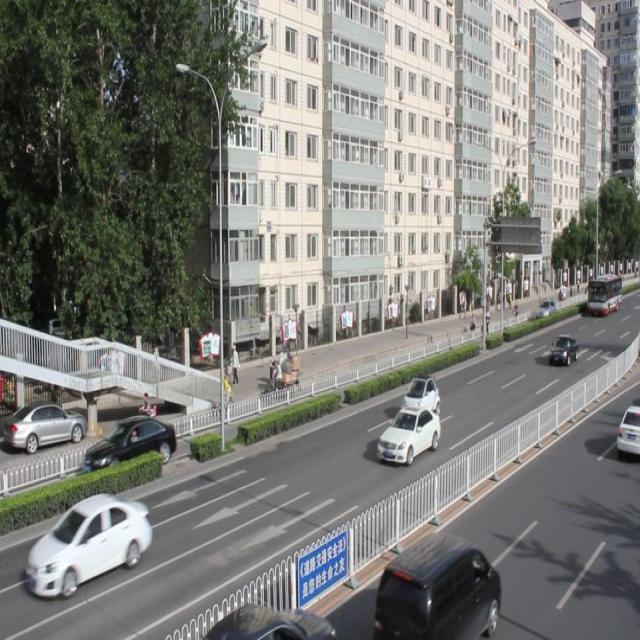car: (374, 532, 499, 640), (28, 490, 150, 597), (85, 413, 176, 476), (210, 602, 336, 640), (375, 403, 440, 463), (399, 373, 439, 415), (614, 404, 640, 456), (547, 332, 577, 365)
